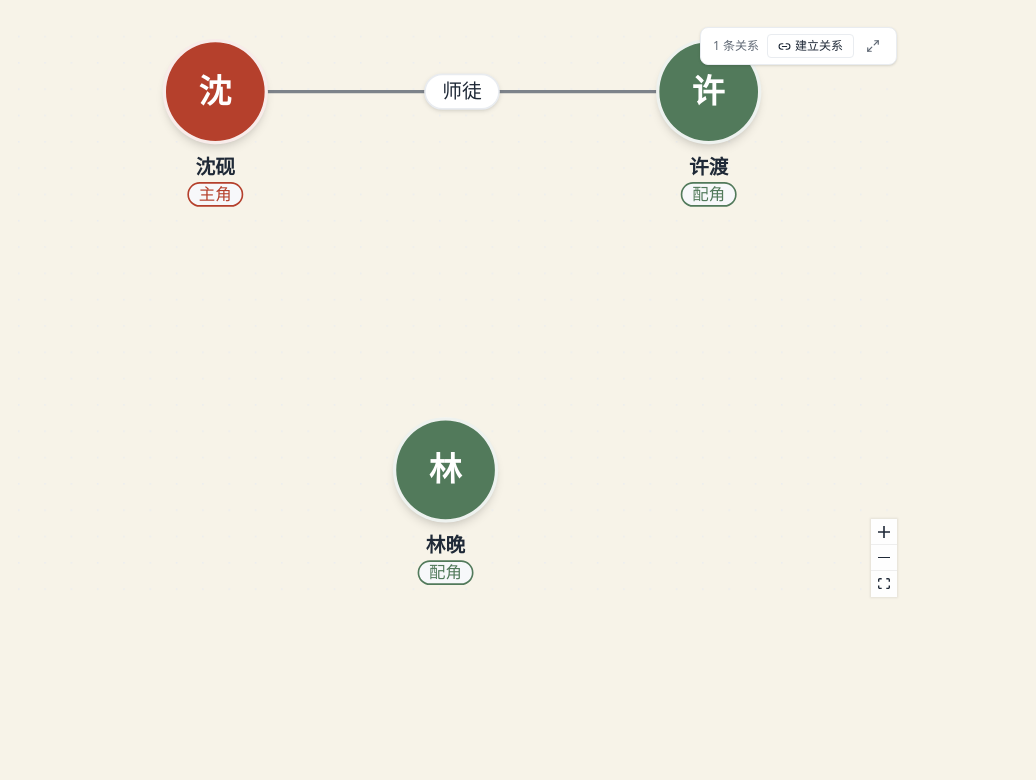
Scenario: relationship canvas › shows the canvas context menu with fit view
Expected: the number of elements with test id "relationship-graph-node" is 3, top-left (163, 39), bottom-right (268, 206); top-left (656, 39), bottom-right (761, 206); top-left (393, 417), bottom-right (498, 584)
Expected: the number of buttons with test id "relationship-edge-chip" is 1, top-left (424, 74), bottom-right (500, 110)
Right-click the element with class "react-flow__pane" at (462, 312), box top-left (12, 12), bottom-right (912, 612)
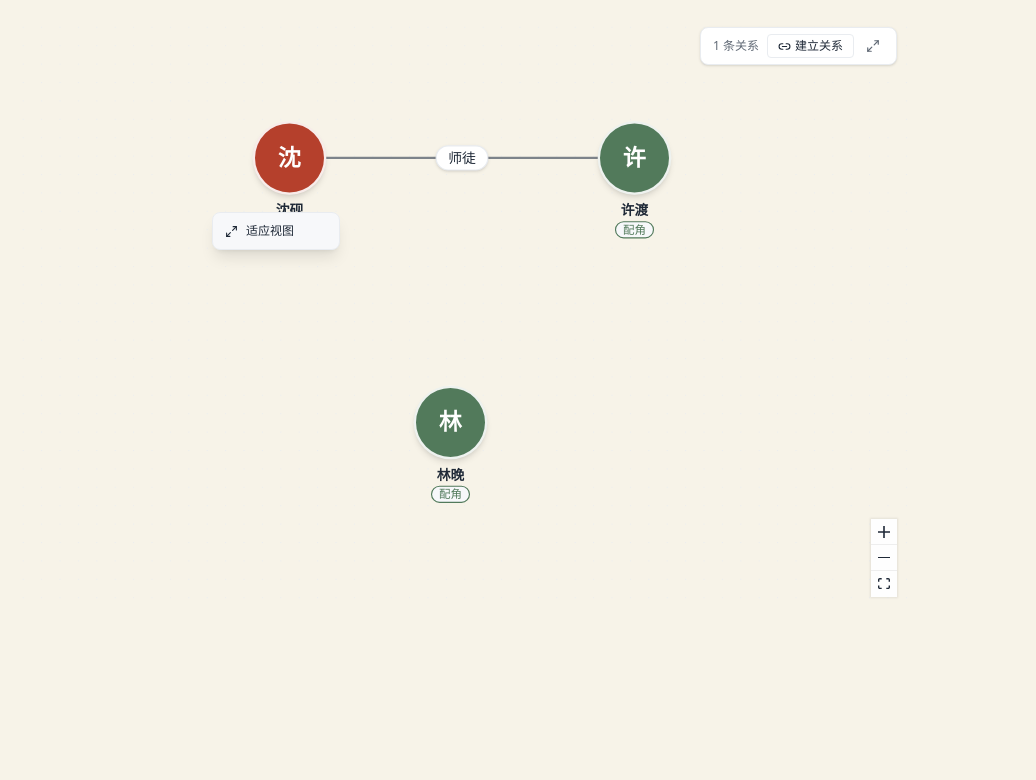
Expected: the text "适应视图" is shown, top-left (246, 223), bottom-right (294, 239)
